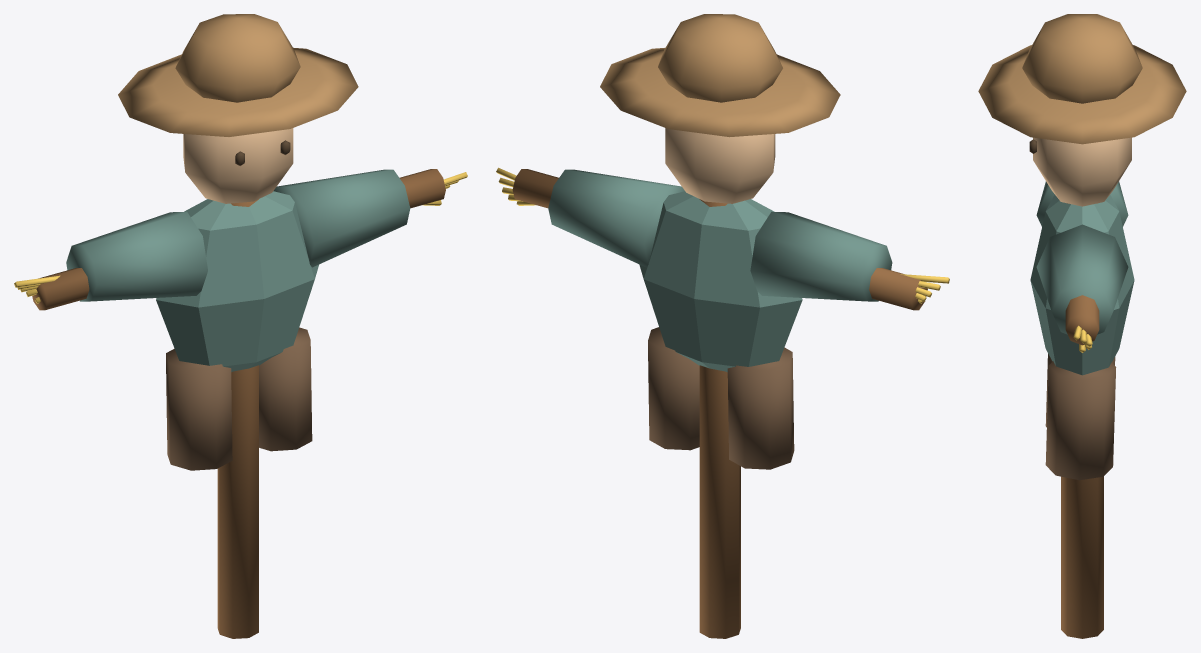
File: scarecrow.glb
3 views of the same model, side by side, from view 1: azimuth 30°, elevation 25°; view 2: azimuth 150°, elevation 25°; view 3: azimuth 270°, elevation 25° (orthographic).
Visible parts, largest first — view 1: scarecrow; view 2: scarecrow; view 3: scarecrow.
Boxes of the visible parts, x1,y1,x2,y2 form: scarecrow: (14,14,467,638); scarecrow: (496,14,949,638); scarecrow: (978,14,1186,638).
Size of the model in its own units: 1.7 by 2.2 by 0.68.
